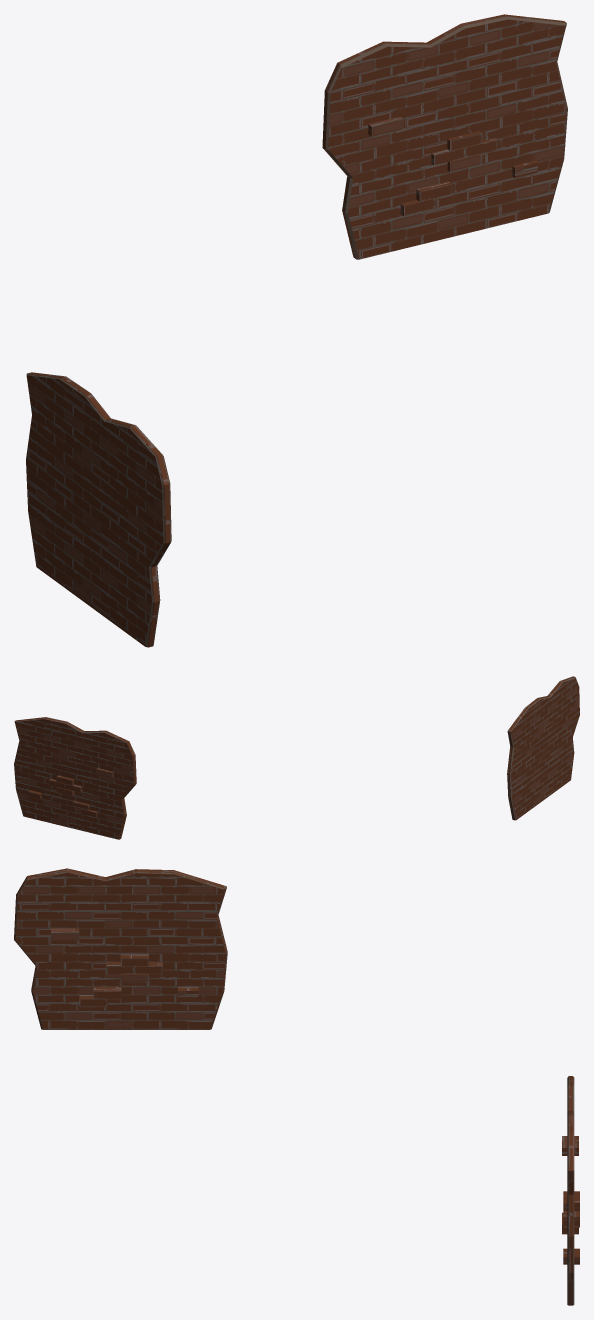
The model's file is BANK_DESTRUCKT_WALLS.fbx.
The picture shows the model from 3 angles, top to bottom: view 1: azimuth 30°, elevation 25°; view 2: azimuth 150°, elevation 25°; view 3: azimuth 270°, elevation 25°; orthographic projection. The views are drawn at different scales.
Parts seen in each view (by area): view 1: BANK_DESTRUCKT_WALL.001_low, BANK_DESTRUCKT_WALL.001_low.002; view 2: BANK_DESTRUCKT_WALL.001_low, BANK_DESTRUCKT_WALL.001_low.002; view 3: BANK_DESTRUCKT_WALL.001_low.002, BANK_DESTRUCKT_WALL.001_low.
Boxes of the visible parts, x1=… form: BANK_DESTRUCKT_WALL.001_low: x1=322, y1=14, x2=567, y2=259; BANK_DESTRUCKT_WALL.001_low.002: x1=26, y1=372, x2=171, y2=647; BANK_DESTRUCKT_WALL.001_low: x1=14, y1=717, x2=136, y2=839; BANK_DESTRUCKT_WALL.001_low.002: x1=507, y1=676, x2=579, y2=820; BANK_DESTRUCKT_WALL.001_low.002: x1=14, y1=868, x2=227, y2=1029; BANK_DESTRUCKT_WALL.001_low: x1=562, y1=1076, x2=579, y2=1305.
Size of the model in its own units: 936 by 243 by 784.
